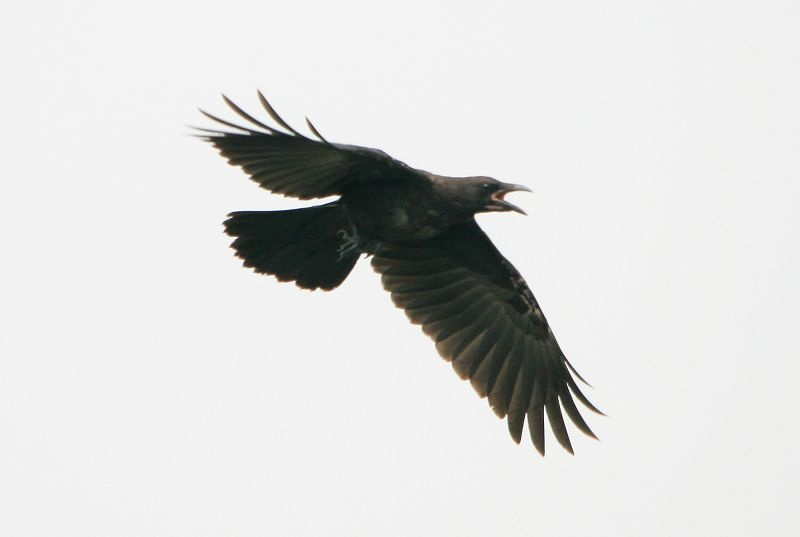bird: (184, 88, 603, 456)
